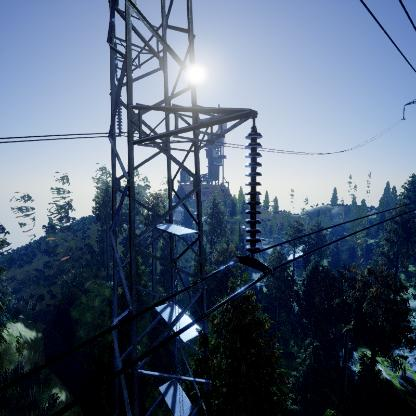insulator: (244, 129, 266, 255)
